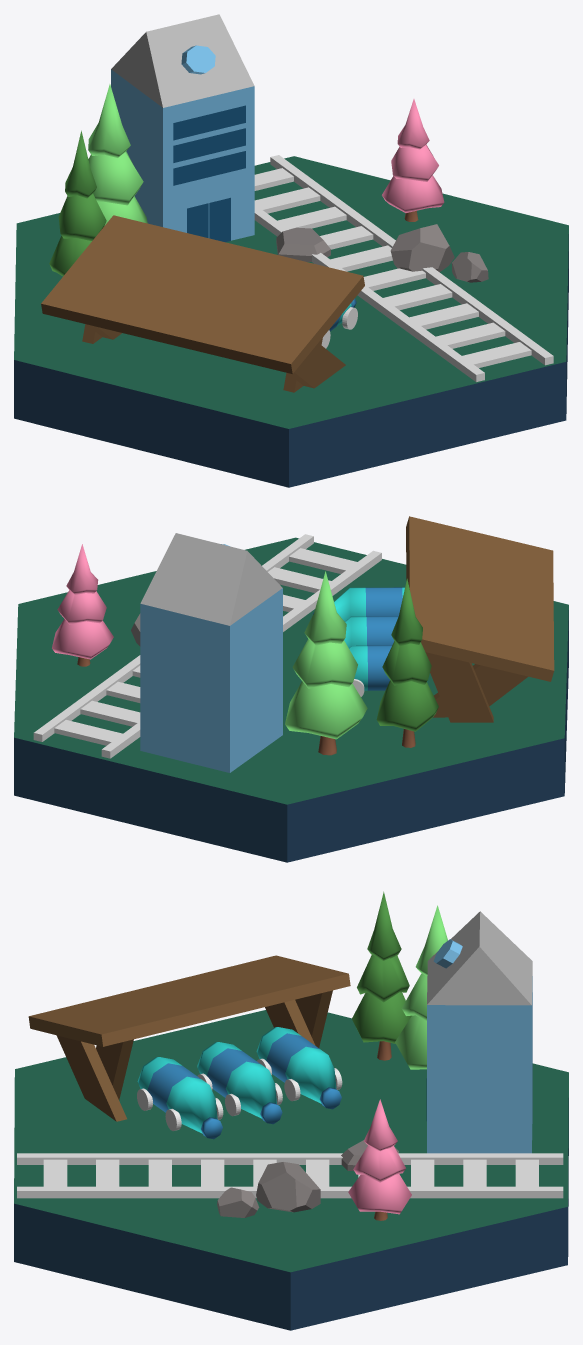
Rendered from Macro - Transportation Hub lvl 1.fbx.
The picture shows the model from 3 angles, top to bottom: view 1: azimuth 30°, elevation 25°; view 2: azimuth 150°, elevation 25°; view 3: azimuth 270°, elevation 25°; orthographic projection.
Visible parts, largest first — view 1: Cylinder.013, table.001, milkbox1.001, Tree_Spruce_tiny_01.008, Tree_Spruce_tiny_01.003, Tree_Spruce_tiny_01.007, Cube.011, Cube.012, Rock Type2 04 mesh.002, Rock Type4 04 mesh.001, Plane.001, Plane.003 (+14 smaller); view 2: Cylinder.013, milkbox1.001, table.001, Tree_Spruce_tiny_01.008, Tree_Spruce_tiny_01.007, Tree_Spruce_tiny_01.003, Cube.011, Cube.012, coke3.003, coke3.004, coke3.005, Cube.010 (+4 smaller); view 3: Cylinder.013, milkbox1.001, table.001, Cube.011, Tree_Spruce_tiny_01.007, Cube.012, Tree_Spruce_tiny_01.003, coke3.004, coke3.003, coke3.005, Tree_Spruce_tiny_01.008, Rock Type2 04 mesh.002 (+9 smaller).
Boxes of the visible parts, <box> form: Cylinder.013: <box>14,156,568,487</box>; table.001: <box>41,215,364,392</box>; milkbox1.001: <box>111,14,254,240</box>; Tree_Spruce_tiny_01.008: <box>88,84,147,225</box>; Tree_Spruce_tiny_01.003: <box>382,99,444,221</box>; Tree_Spruce_tiny_01.007: <box>49,130,106,276</box>; Cube.011: <box>270,155,553,365</box>; Cube.012: <box>254,204,484,382</box>; Rock Type2 04 mesh.002: <box>390,224,454,272</box>; Rock Type4 04 mesh.001: <box>276,227,330,261</box>; Plane.001: <box>173,151,245,185</box>; Plane.003: <box>173,105,245,140</box>; Cylinder.013: <box>14,537,568,862</box>; milkbox1.001: <box>140,533,282,772</box>; table.001: <box>406,516,554,722</box>; Tree_Spruce_tiny_01.008: <box>285,571,367,755</box>; Tree_Spruce_tiny_01.007: <box>376,578,438,747</box>; Tree_Spruce_tiny_01.003: <box>52,544,113,666</box>; Cube.011: <box>33,534,313,741</box>; Cube.012: <box>101,550,381,758</box>; coke3.003: <box>313,587,404,621</box>; coke3.004: <box>344,616,398,647</box>; coke3.005: <box>349,645,427,690</box>; Cube.010: <box>289,548,357,573</box>; Cylinder.013: <box>14,1010,568,1330</box>; milkbox1.001: <box>427,911,532,1153</box>; table.001: <box>28,955,350,1121</box>; Cube.011: <box>17,1186,563,1198</box>; Tree_Spruce_tiny_01.007: <box>352,891,411,1060</box>; Cube.012: <box>17,1153,563,1164</box>; Tree_Spruce_tiny_01.003: <box>348,1099,411,1220</box>; coke3.004: <box>197,1042,282,1124</box>; coke3.003: <box>137,1057,222,1139</box>; coke3.005: <box>256,1027,341,1109</box>; Tree_Spruce_tiny_01.008: <box>395,905,447,1069</box>; Rock Type2 04 mesh.002: <box>256,1162,320,1212</box>.
Bounding box in the file's own units: 197 × 89.35 × 172.
